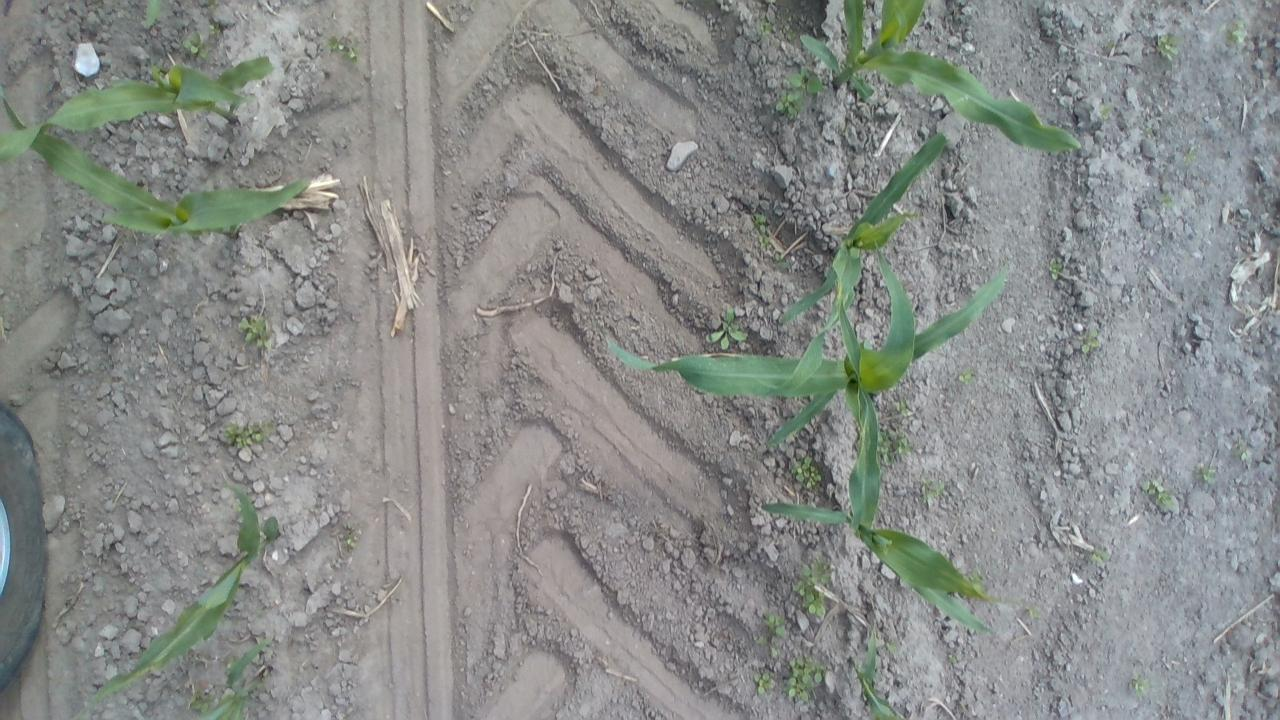Maize: (762, 292, 1008, 637), (600, 266, 1004, 450), (60, 475, 282, 720), (0, 84, 310, 244), (772, 132, 948, 400), (801, 0, 1088, 158), (0, 52, 277, 164), (188, 632, 272, 720), (851, 622, 906, 720), (143, 0, 202, 34)
Weeds: (792, 558, 834, 618), (775, 67, 824, 117), (782, 656, 828, 701), (706, 307, 749, 351), (222, 419, 274, 449), (878, 426, 916, 466), (238, 316, 274, 351), (1141, 476, 1176, 509), (790, 456, 821, 488), (180, 30, 210, 60), (1155, 32, 1182, 62), (190, 684, 216, 714), (1222, 20, 1248, 46), (920, 475, 944, 503), (763, 611, 787, 639), (1128, 671, 1152, 697), (1080, 328, 1100, 354), (753, 671, 774, 695), (1196, 464, 1216, 485), (756, 16, 774, 38), (1048, 257, 1064, 280), (751, 212, 767, 234), (341, 46, 358, 66), (325, 35, 345, 52), (150, 61, 168, 79), (1090, 548, 1110, 564), (774, 250, 790, 270), (958, 368, 975, 386), (894, 398, 910, 417), (1098, 103, 1114, 120), (966, 568, 984, 582), (782, 25, 796, 41), (1184, 148, 1197, 165), (226, 654, 240, 669), (1026, 604, 1040, 618), (207, 21, 220, 36), (342, 536, 356, 549), (1238, 447, 1250, 462), (759, 234, 770, 250), (1161, 194, 1174, 207), (886, 638, 897, 652), (948, 650, 958, 662), (769, 646, 778, 658), (757, 635, 767, 644), (764, 0, 777, 4)
